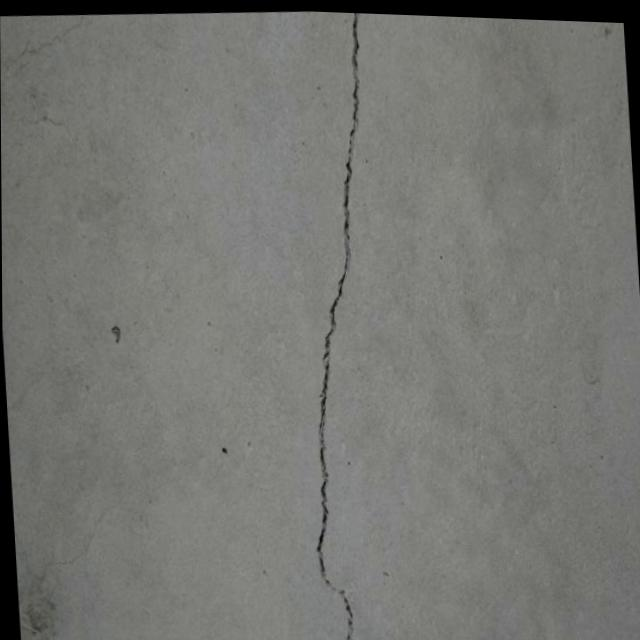Crack: (277, 8, 411, 640)
